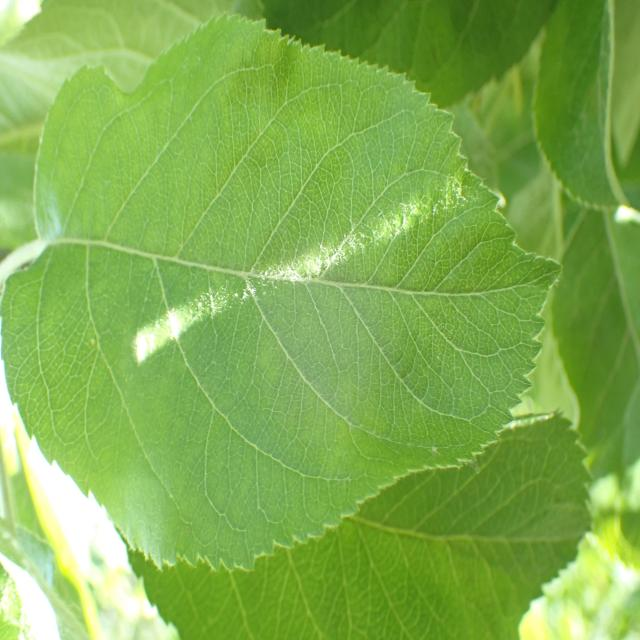healthy: (1, 13, 564, 572), (130, 408, 596, 640), (238, 0, 556, 110), (532, 0, 636, 215)
